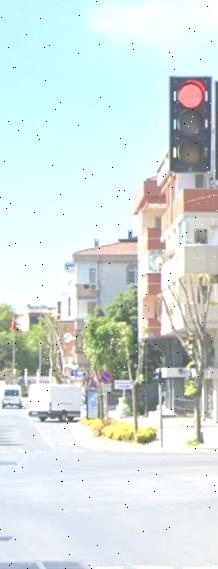redlight: (167, 75, 210, 170)
